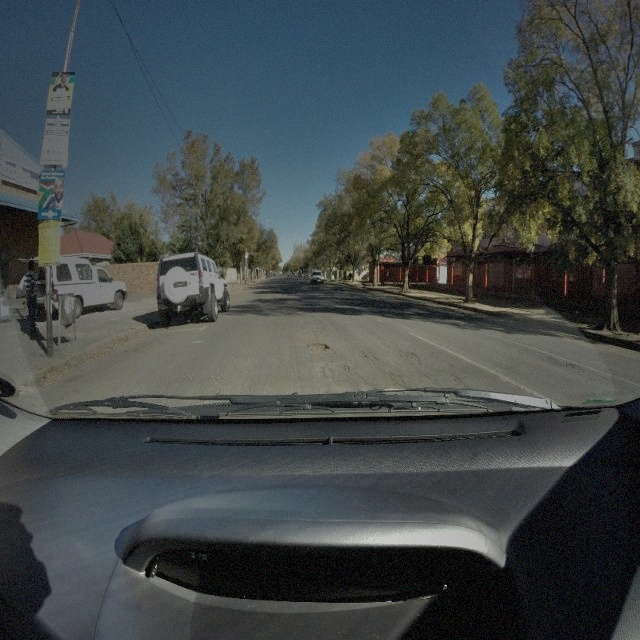pothole: (305, 341, 329, 355), (558, 356, 576, 371)
